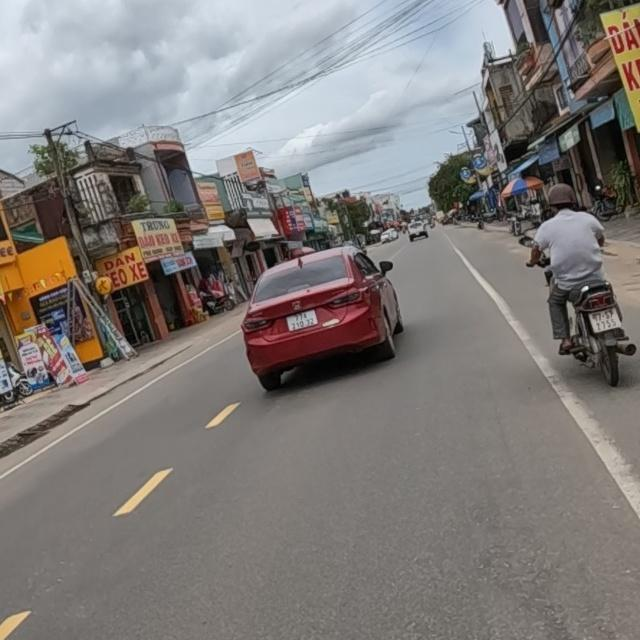license-plate: (587, 306, 623, 334), (285, 309, 320, 332)
